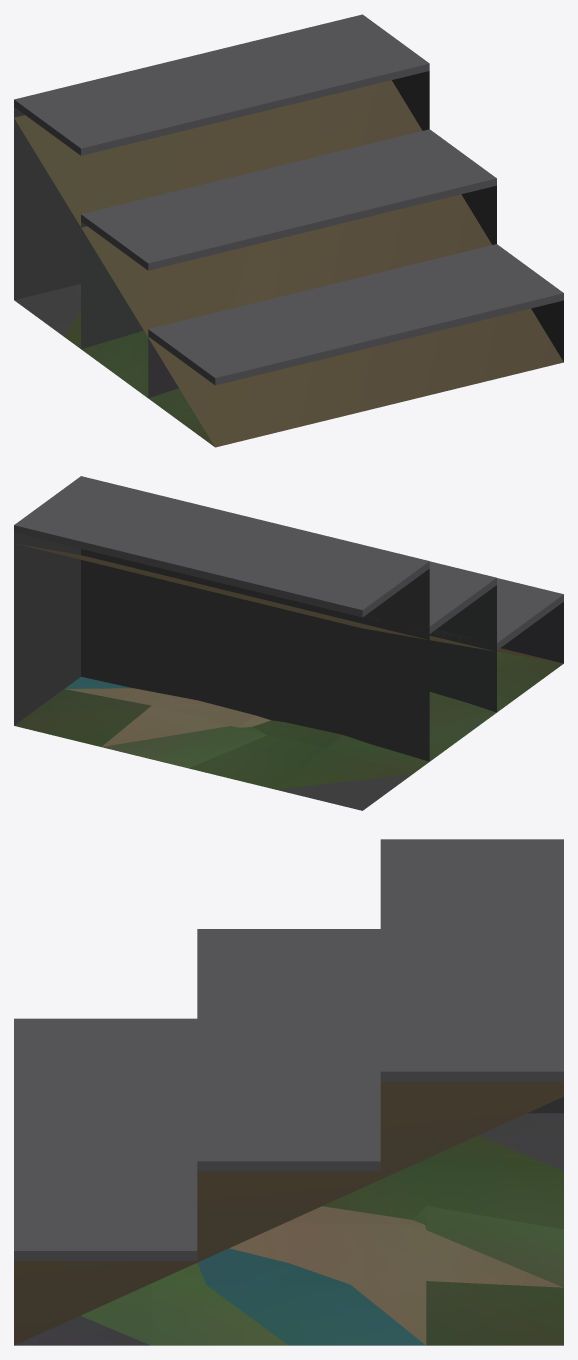
The model's file is terrain.gltf.
The picture shows the model from 3 angles, top to bottom: view 1: azimuth 30°, elevation 25°; view 2: azimuth 150°, elevation 25°; view 3: azimuth 270°, elevation 25°; orthographic projection. The views are drawn at different scales.
Visible parts, largest first — view 1: nat_ground_stairs, nat_ground_slope, nat_ground_grass, nat_ground_floor; view 2: nat_ground_stairs, nat_ground_grass, nat_ground_sand, nat_ground_meadow, nat_ground_slope, nat_ground_floor, nat_ground_shallow; view 3: nat_ground_stairs, nat_ground_slope, nat_ground_grass, nat_ground_sand, nat_ground_meadow, nat_ground_shallow, nat_ground_floor.
Part boxes in pixels (bbox=[...]): nat_ground_stairs: bbox=[14, 14, 563, 398]; nat_ground_slope: bbox=[14, 80, 563, 447]; nat_ground_grass: bbox=[64, 311, 214, 446]; nat_ground_floor: bbox=[14, 284, 80, 336]; nat_ground_stairs: bbox=[14, 476, 563, 809]; nat_ground_grass: bbox=[14, 652, 563, 789]; nat_ground_sand: bbox=[65, 688, 270, 746]; nat_ground_meadow: bbox=[101, 726, 266, 768]; nat_ground_slope: bbox=[17, 544, 560, 662]; nat_ground_floor: bbox=[276, 774, 412, 810]; nat_ground_shallow: bbox=[65, 677, 132, 688]; nat_ground_stairs: bbox=[14, 839, 563, 1345]; nat_ground_slope: bbox=[14, 1081, 563, 1345]; nat_ground_grass: bbox=[322, 1135, 563, 1345]; nat_ground_sand: bbox=[229, 1206, 563, 1345]; nat_ground_meadow: bbox=[81, 1206, 563, 1345]; nat_ground_shallow: bbox=[197, 1248, 425, 1345]; nat_ground_floor: bbox=[15, 1113, 563, 1345].
Bounding box in the file's own units: 1 × 0.5701 × 1.
